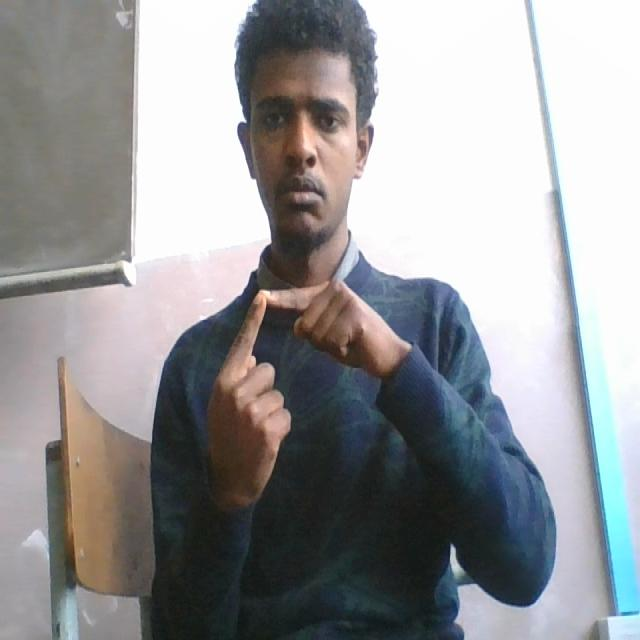wede: (206, 278, 404, 501)
